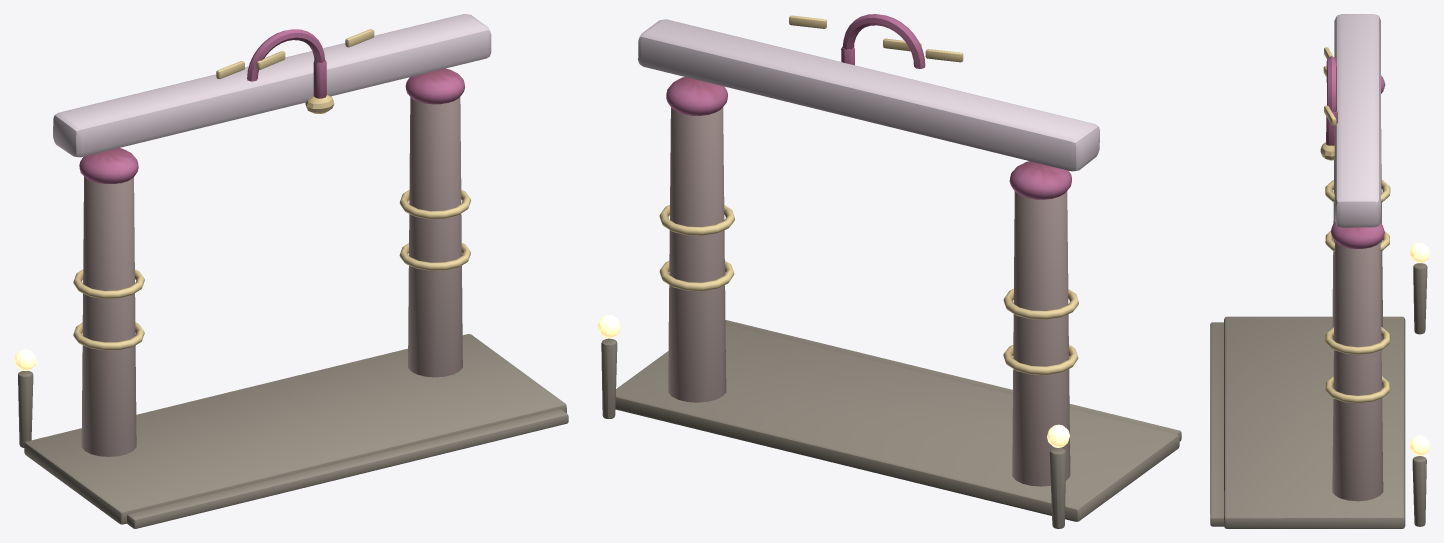
The picture shows the model from 3 angles, left to right: view 1: azimuth 30°, elevation 25°; view 2: azimuth 150°, elevation 25°; view 3: azimuth 270°, elevation 25°; orthographic projection. The views are drawn at different scales.
Visible parts, largest first — view 1: gate_c3a61b67; view 2: gate_c3a61b67; view 3: gate_c3a61b67.
Part boxes in pixels (x1,y1,x2,y2): gate_c3a61b67: (14,14,568,528); gate_c3a61b67: (597,14,1181,528); gate_c3a61b67: (1210,14,1429,528).
Size of the model in its own units: 5.54 by 4.75 by 2.54.
